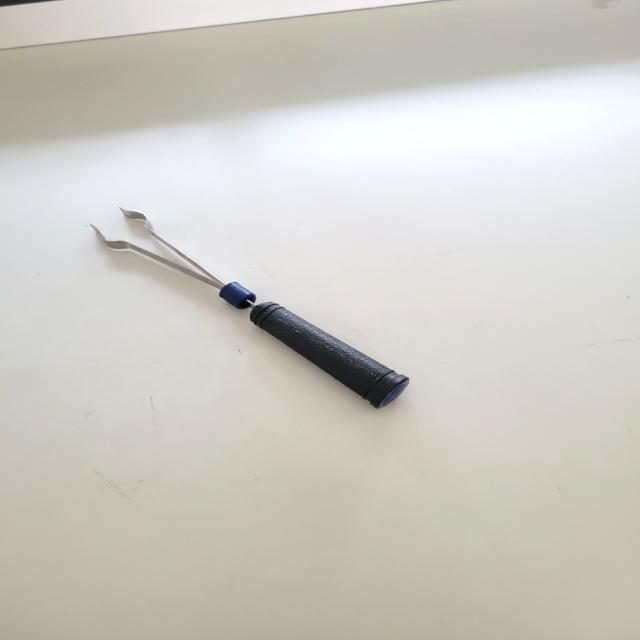TestTube_Holder: (87, 195, 422, 413)
